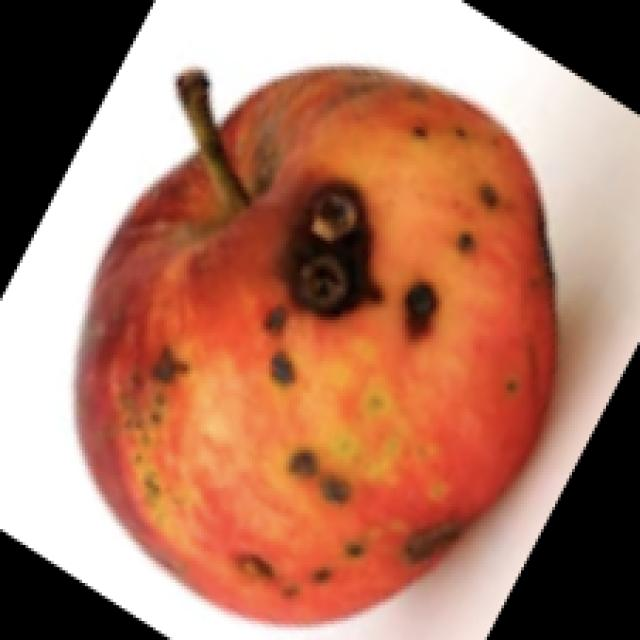Rotten: (62, 58, 564, 632)
